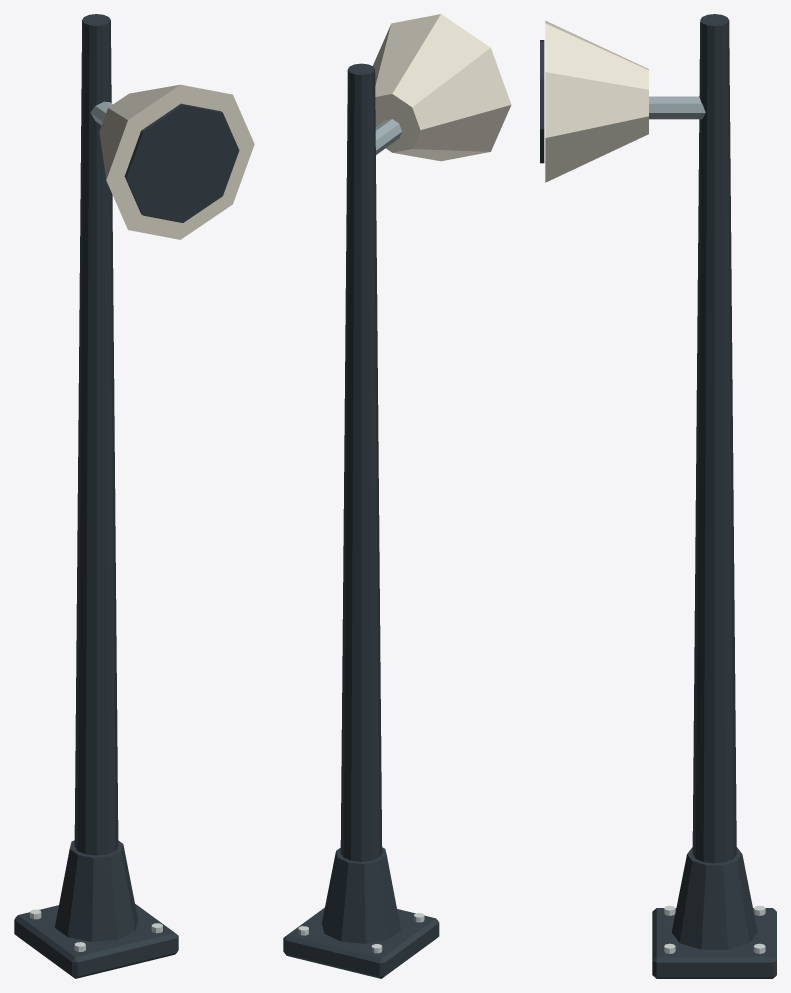
Rendered from Announcement_Speaker_Pole.glb.
3 views of the same model, side by side, from view 1: azimuth 30°, elevation 25°; view 2: azimuth 150°, elevation 25°; view 3: azimuth 270°, elevation 25° (orthographic). The views are drawn at different scales.
Visible parts, largest first — view 1: Announcement_Speaker_Pole; view 2: Announcement_Speaker_Pole; view 3: Announcement_Speaker_Pole.
Boxes of the visible parts, bbox=[...] form: Announcement_Speaker_Pole: bbox=[14, 14, 254, 978]; Announcement_Speaker_Pole: bbox=[283, 14, 511, 978]; Announcement_Speaker_Pole: bbox=[540, 14, 776, 978].
Bounding box in the file's own units: 0.5 × 2.98 × 0.685.
